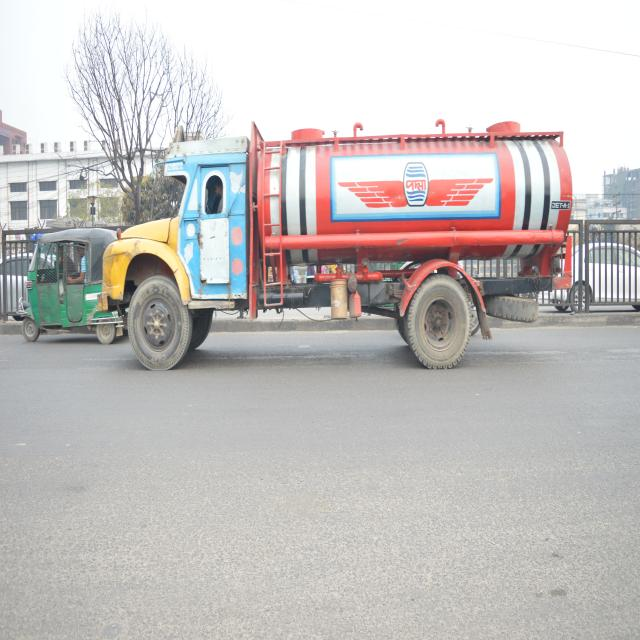car: (571, 234, 640, 322), (0, 249, 40, 323)
truck: (105, 114, 570, 387)
